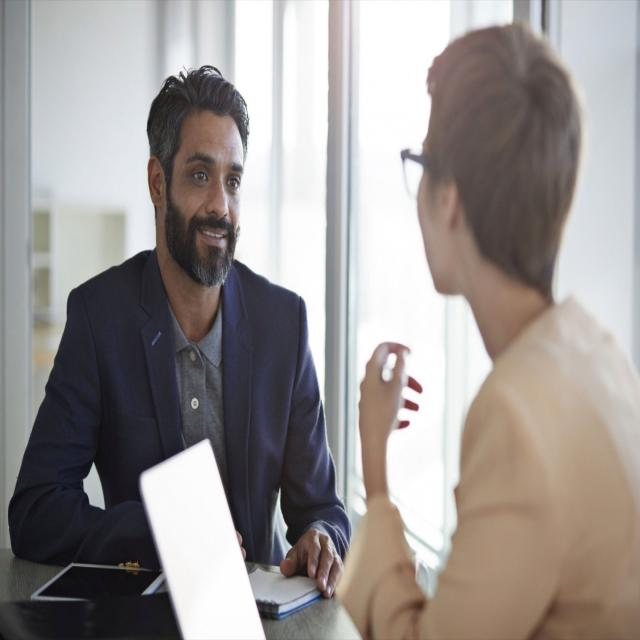adult: (3, 67, 352, 592), (360, 30, 639, 640)
